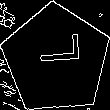L_W: (30, 42, 82, 77)
